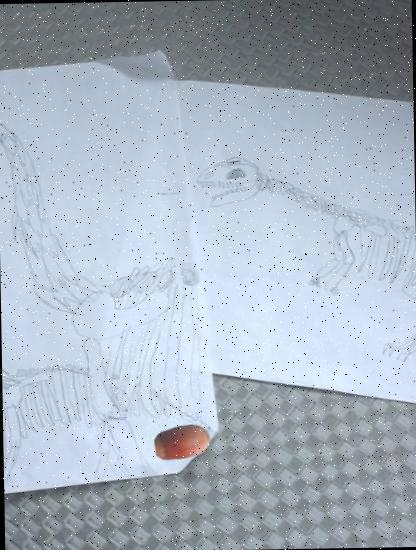Hazelnut: (154, 412, 212, 471)
